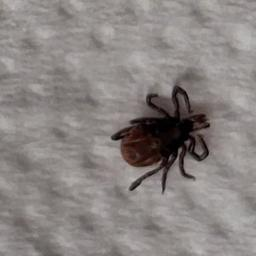Ixodes scapularis: (110, 85, 211, 195)
